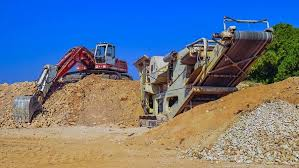excavator: (12, 41, 136, 128)
